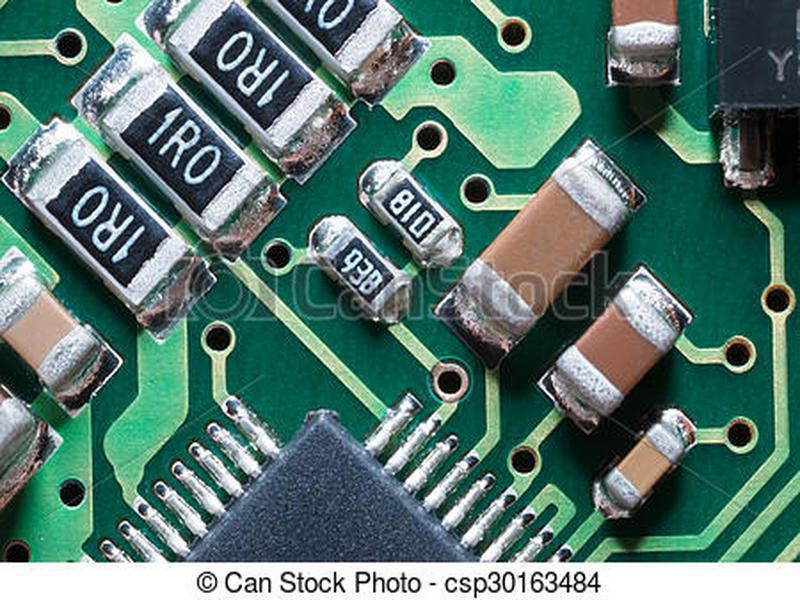SMD capacitor: (469, 151, 621, 334), (566, 271, 694, 414), (1, 281, 104, 403), (599, 406, 692, 522)
SMD resistor: (17, 142, 198, 321), (93, 71, 269, 252), (177, 1, 348, 180), (313, 223, 412, 331), (363, 166, 463, 271)
